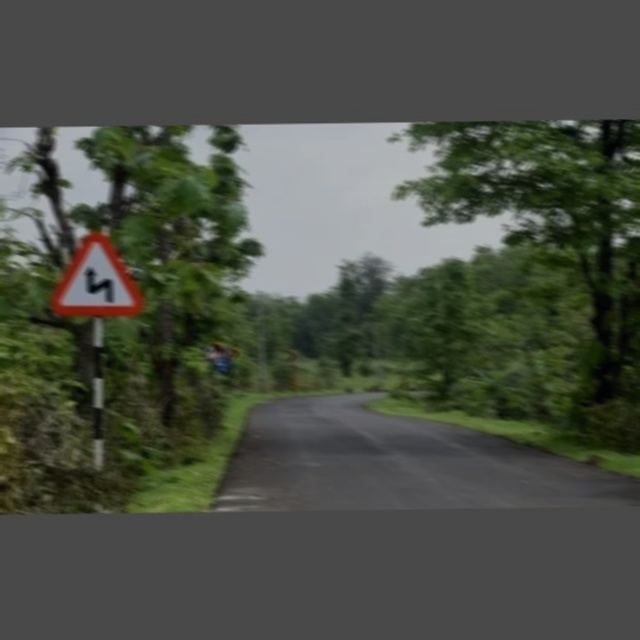Left_Reverse_Bend: (49, 229, 139, 318)
